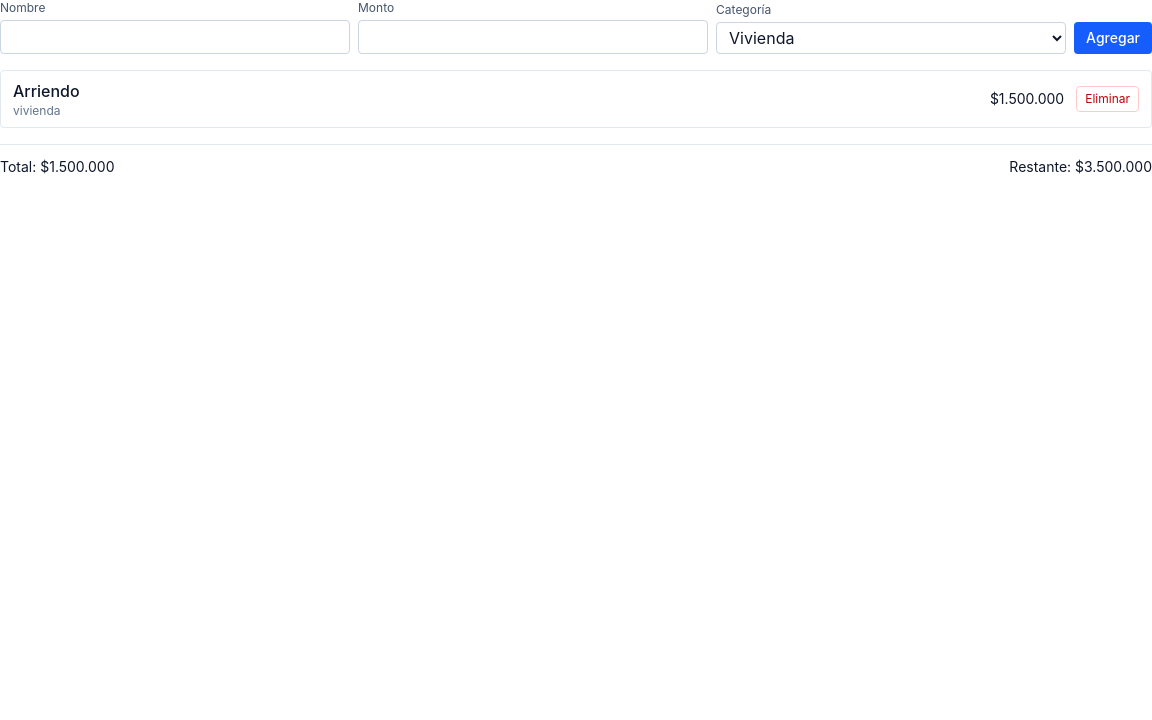
FixedExpenseList (AC-4.4 TC-C-013) › AC-4.4 TC-C-013: clicking delete opens ConfirmDialog; confirm removes the item
Click the button "Eliminar".
click(1108, 99)  # box [1076,86,1139,112]
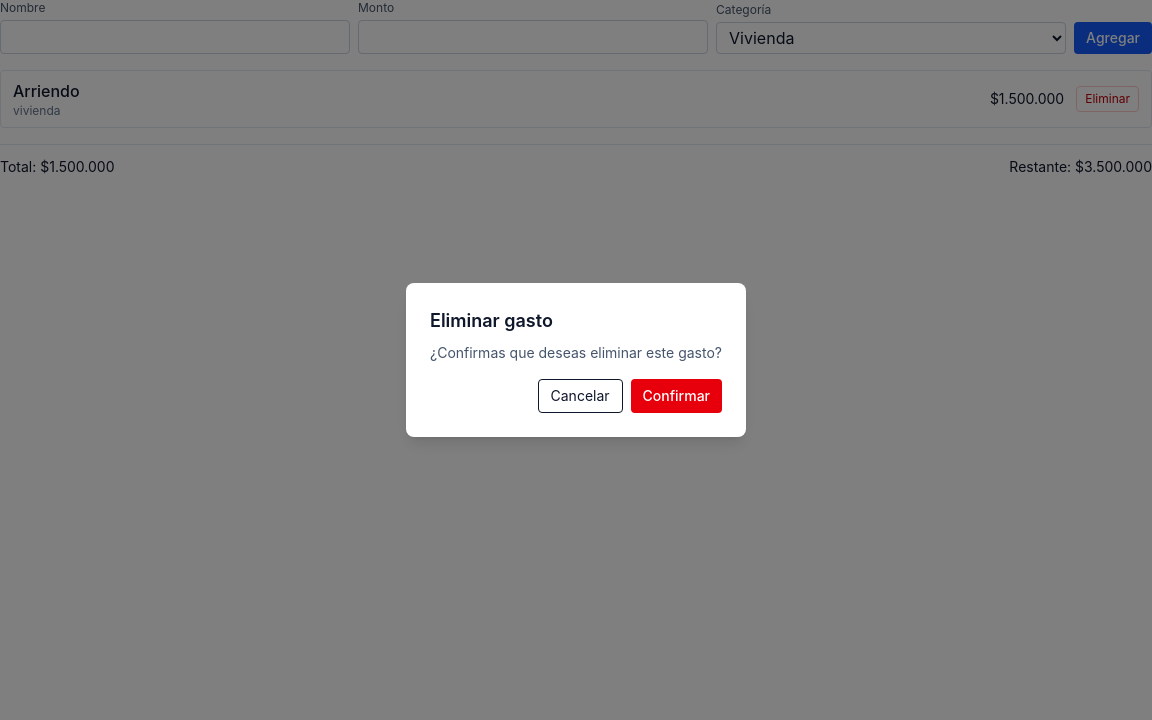
Check: the dialog is shown
Click the button "Confirmar".
click(676, 396)  # box [631,379,722,413]
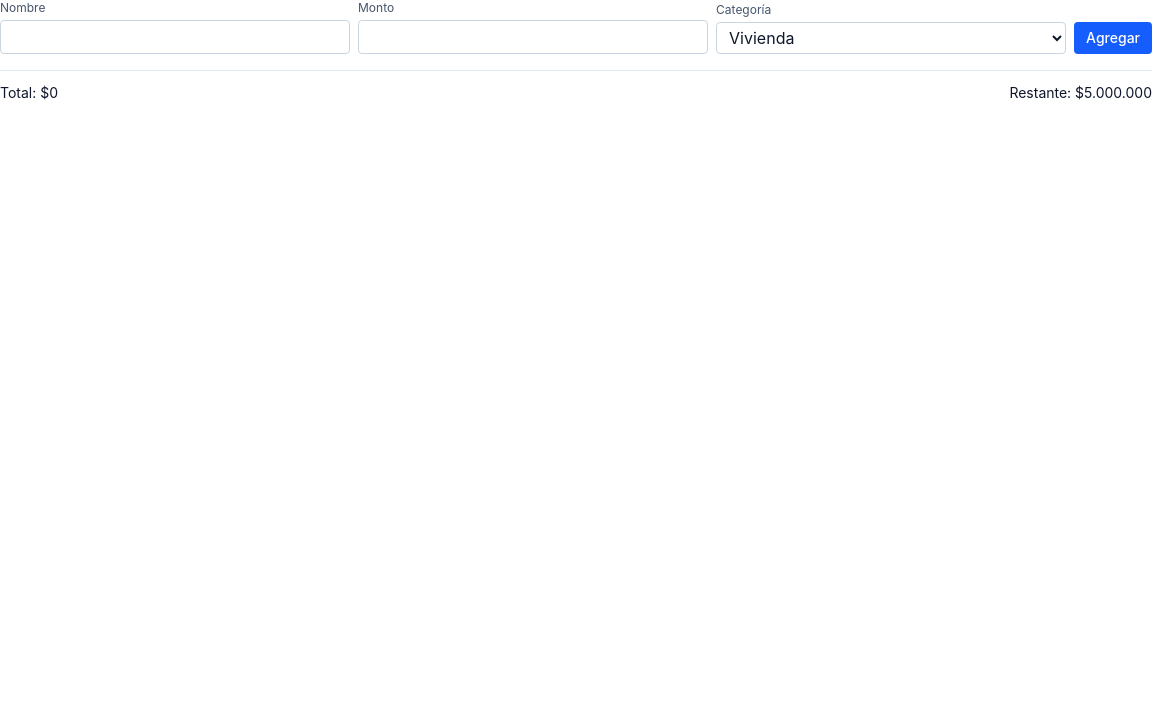
Check: the text "Arriendo" is gone
